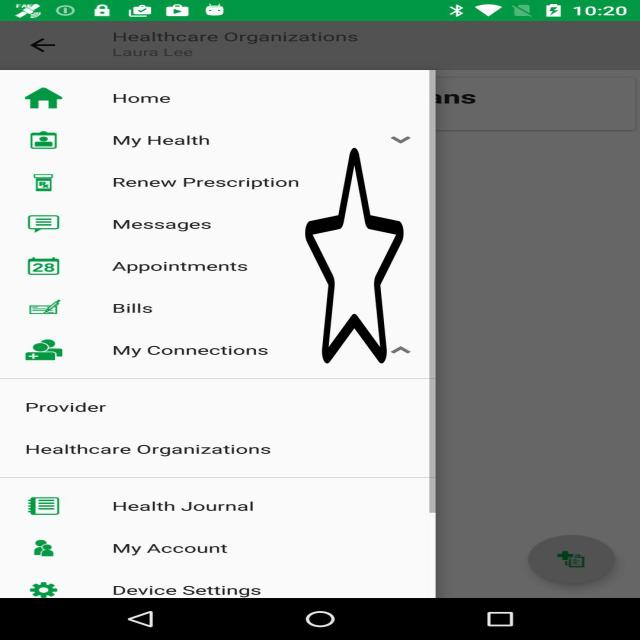forced continuity: (305, 143, 404, 368)
